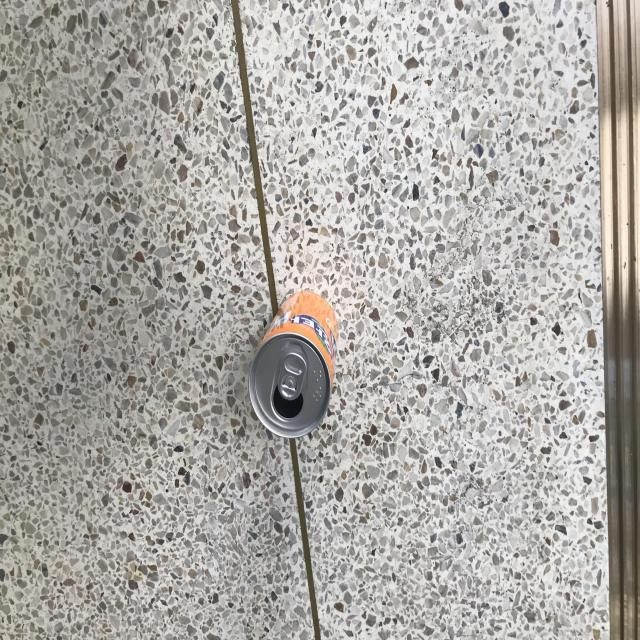can: (249, 291, 339, 438)
